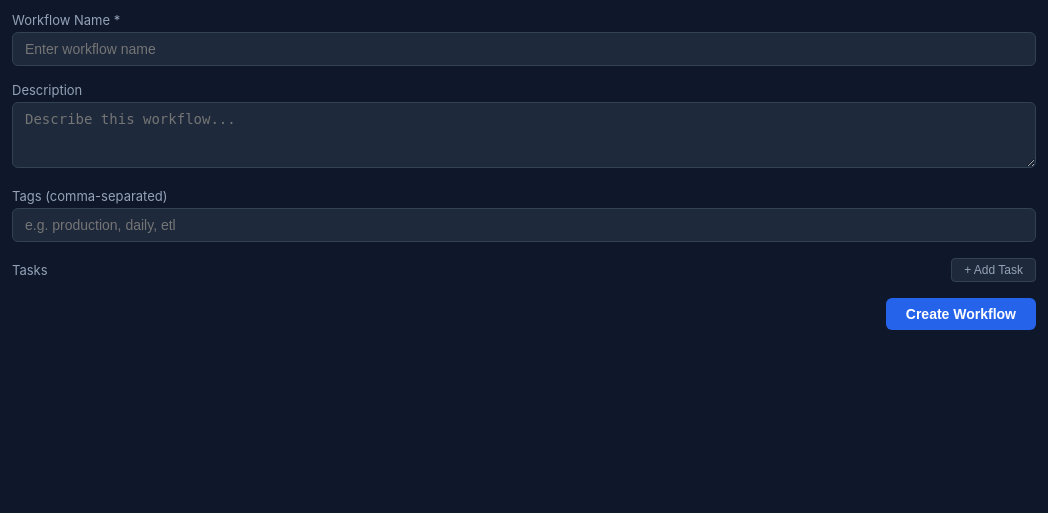
Test case: WorkflowForm › adds a task when Add Task is clicked
The width and height of the screenshot is (1048, 513).
Step 1. Click the button with test id "add-task-button" → coordinates (994, 270), box [951, 258, 1036, 282]
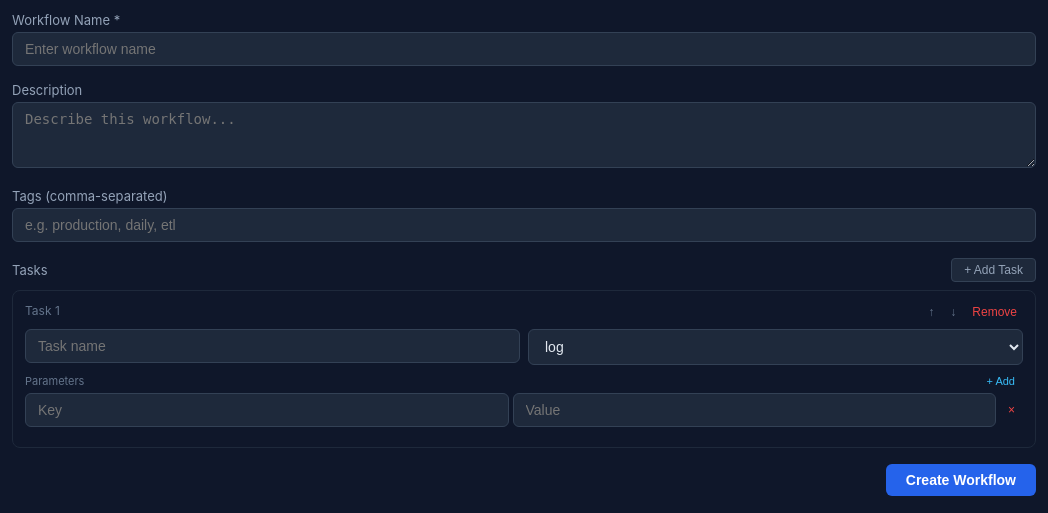
expect the element with test id "task-entry-0" is shown: met, box [12, 290, 1036, 448]
